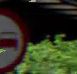No overtake: (0, 6, 35, 72)
